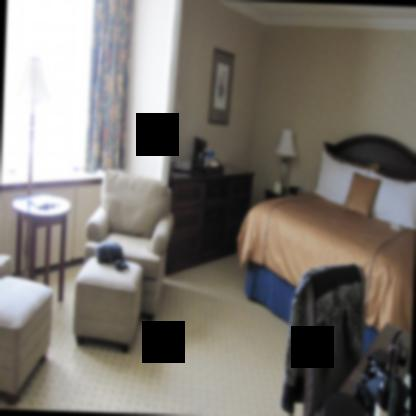handbag: (96, 242, 128, 270)
